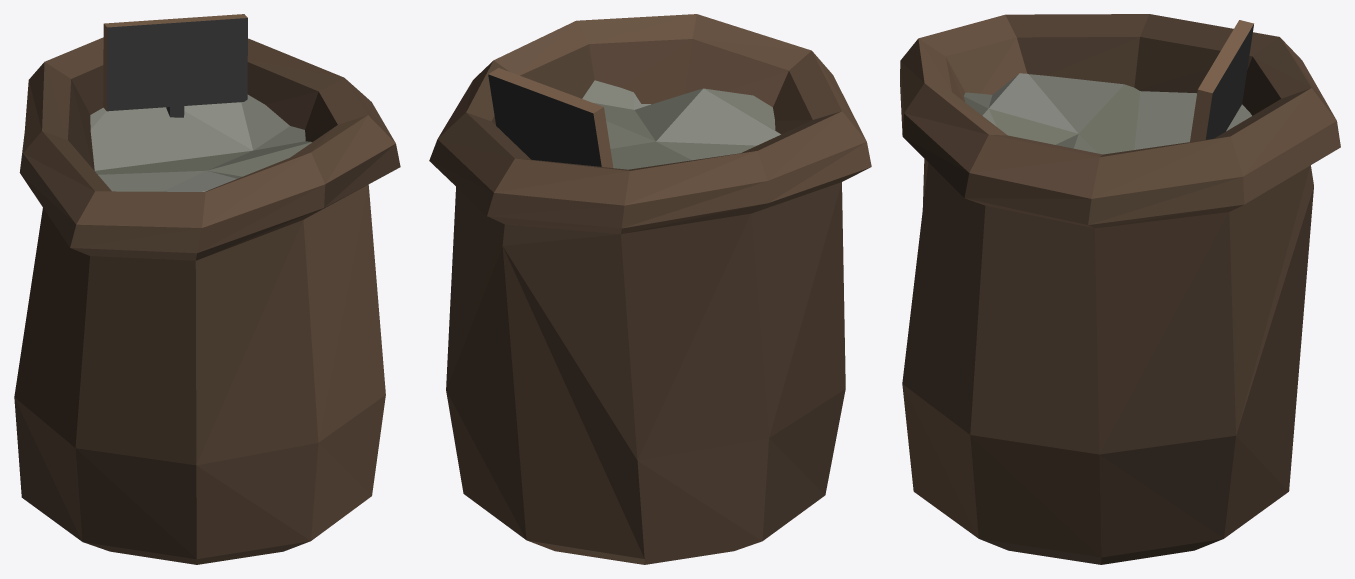
File: Prop_GrainBagD.fbx
The picture shows the model from 3 angles, left to right: view 1: azimuth 30°, elevation 25°; view 2: azimuth 150°, elevation 25°; view 3: azimuth 270°, elevation 25°; orthographic projection. The views are drawn at different scales.
Visible parts, largest first — view 1: Prop_GrainBagD; view 2: Prop_GrainBagD; view 3: Prop_GrainBagD.
Part boxes in pixels (x1,y1,x2,y2): Prop_GrainBagD: (14, 14, 400, 564); Prop_GrainBagD: (429, 14, 871, 564); Prop_GrainBagD: (900, 14, 1340, 564).
Size of the model in its own units: 55.34 by 66.65 by 56.57.
